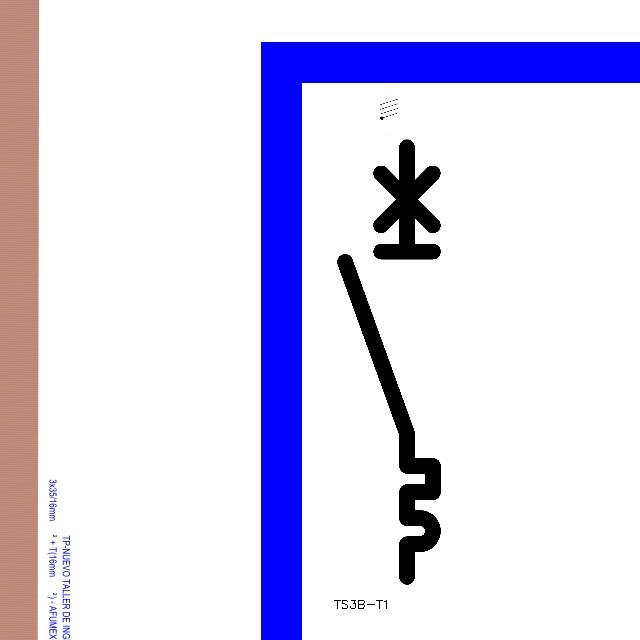interruptor_termomagnetico: (334, 136, 444, 587)
